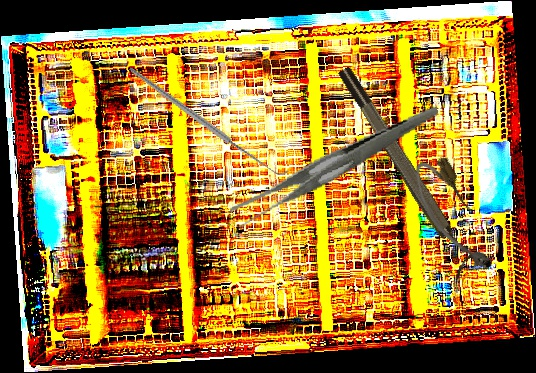Cannula: (405, 151, 502, 282)
Dressing Forceps: (218, 105, 452, 230)
Fixation Ring: (334, 58, 484, 279)
Hook Surgical: (128, 25, 289, 216)
